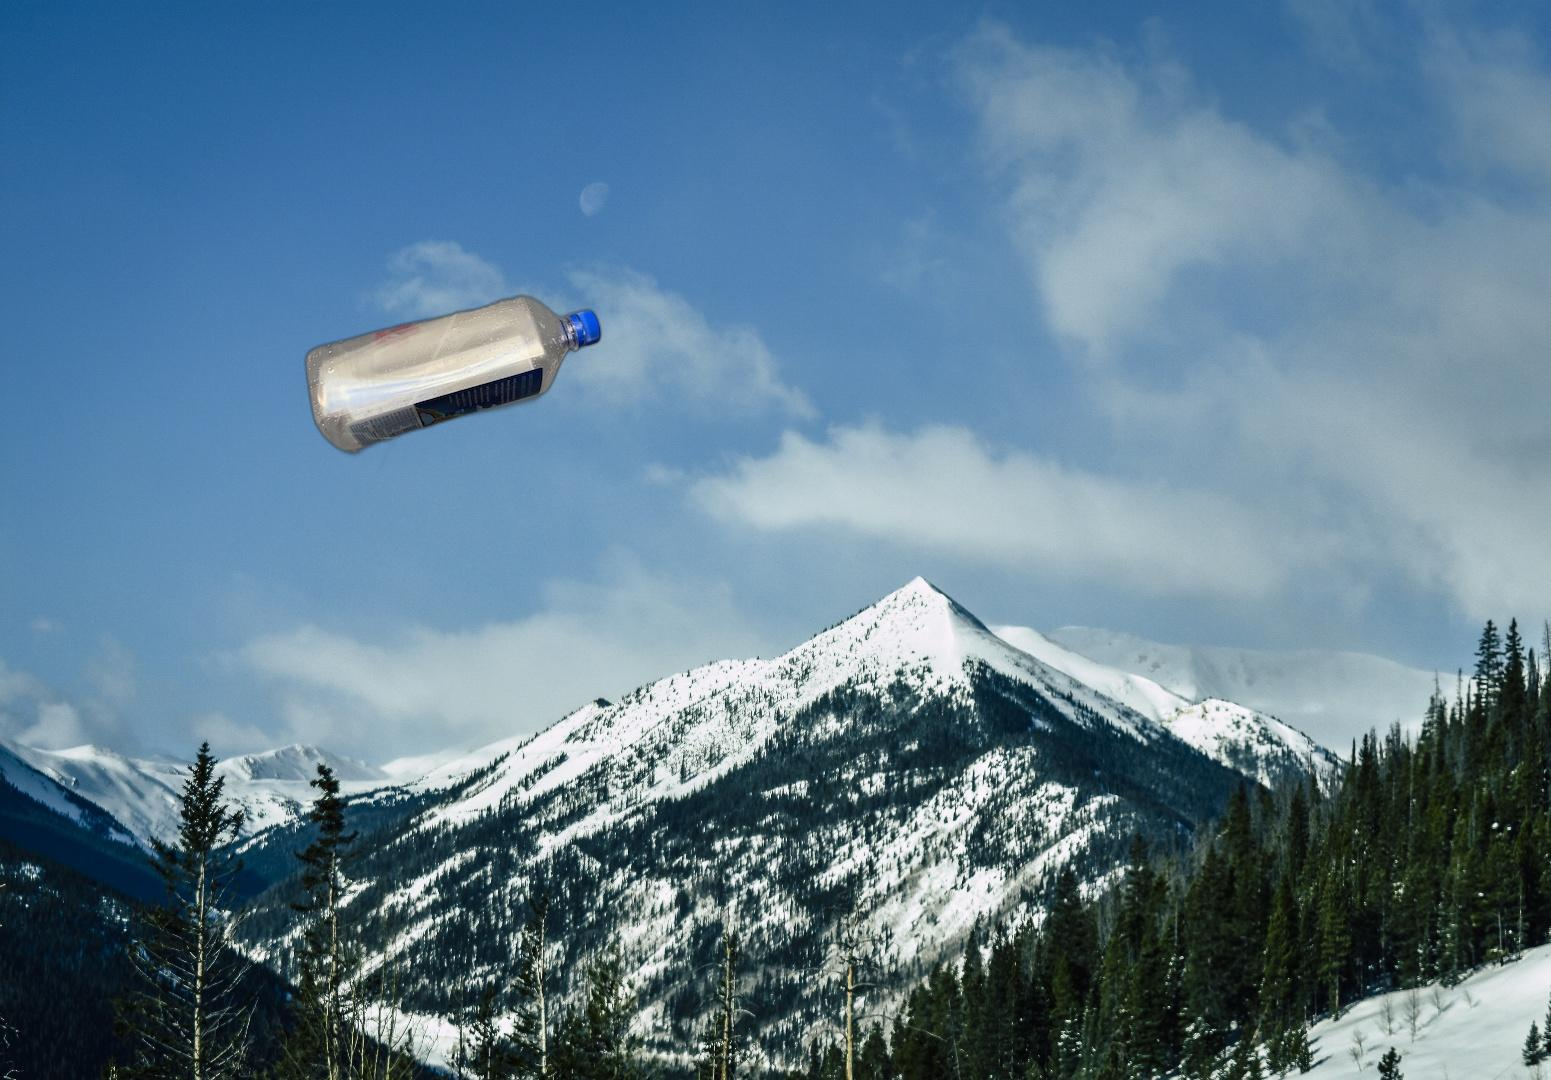plastic-bottles: (265, 290, 606, 700)
